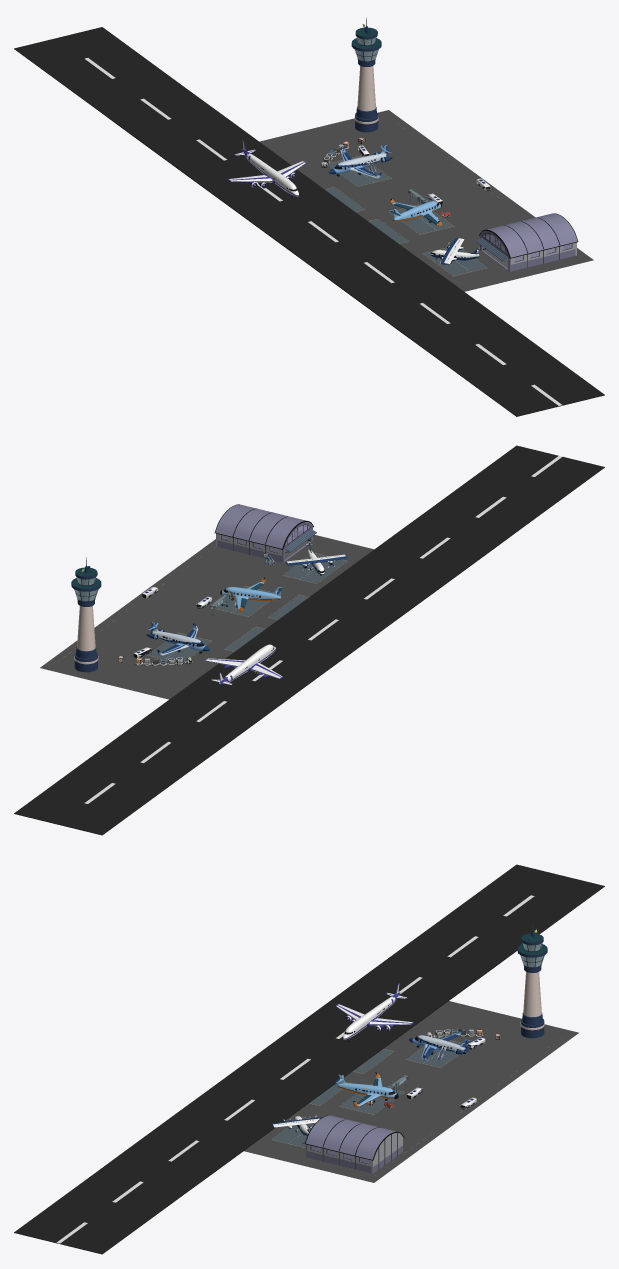
The model's file is exterior-detail.glb.
3 renders of one model, top to bottom at view 1: azimuth 30°, elevation 25°; view 2: azimuth 150°, elevation 25°; view 3: azimuth 330°, elevation 25°, orthographic.
Parts seen in each view (by area): view 1: AS|runway|RUNWAY/LandingTrack1Straight_AIRPORT_0, AS|apron|APRON/apron, AS|infrastructure|SRC-04.Hangar/04.Hangar_AIRPORT_0, AS|infrastructure|SRC-02.ControlTower/02.ControlTower_AIRPOR, AS|aircraft|AC-02/18.2.Airplane_AIRPORT_0, AS|aircraft|AC-03/18.3.Airplane_AIRPORT_0, AS|aircraft|AC-01/18.1.Airplane_AIRPORT_0, AS|stands|STAND-3/stand selection surface, AS|aircraft|AC-04/18.4.Airplane_AIRPORT_0, AS|stands|STAND-1/stand selection surface, AS|stands|STAND-2/stand selection surface; view 2: AS|runway|RUNWAY/LandingTrack1Straight_AIRPORT_0, AS|apron|APRON/apron, AS|infrastructure|SRC-04.Hangar/04.Hangar_AIRPORT_0, AS|infrastructure|SRC-02.ControlTower/02.ControlTower_AIRPOR, AS|aircraft|AC-02/18.2.Airplane_AIRPORT_0, AS|aircraft|AC-03/18.3.Airplane_AIRPORT_0, AS|aircraft|AC-01/18.1.Airplane_AIRPORT_0, AS|stands|STAND-3/stand selection surface, AS|aircraft|AC-04/18.4.Airplane_AIRPORT_0, AS|stands|STAND-2/stand selection surface, AS|stands|STAND-1/stand selection surface; view 3: AS|runway|RUNWAY/LandingTrack1Straight_AIRPORT_0, AS|apron|APRON/apron, AS|infrastructure|SRC-04.Hangar/04.Hangar_AIRPORT_0, AS|infrastructure|SRC-02.ControlTower/02.ControlTower_AIRPOR, AS|aircraft|AC-02/18.2.Airplane_AIRPORT_0, AS|aircraft|AC-01/18.1.Airplane_AIRPORT_0, AS|aircraft|AC-03/18.3.Airplane_AIRPORT_0, AS|stands|STAND-2/stand selection surface, AS|stands|STAND-1/stand selection surface.
Boxes of the visible parts, bbox=[...] form: AS|runway|RUNWAY/LandingTrack1Straight_AIRPORT_0: bbox=[14, 27, 604, 416]; AS|apron|APRON/apron: bbox=[259, 110, 593, 291]; AS|infrastructure|SRC-04.Hangar/04.Hangar_AIRPORT_0: bbox=[476, 213, 578, 271]; AS|infrastructure|SRC-02.ControlTower/02.ControlTower_AIRPOR: bbox=[351, 17, 381, 132]; AS|aircraft|AC-02/18.2.Airplane_AIRPORT_0: bbox=[228, 140, 305, 198]; AS|aircraft|AC-03/18.3.Airplane_AIRPORT_0: bbox=[329, 145, 392, 178]; AS|aircraft|AC-01/18.1.Airplane_AIRPORT_0: bbox=[388, 198, 442, 226]; AS|stands|STAND-3/stand selection surface: bbox=[423, 248, 487, 275]; AS|aircraft|AC-04/18.4.Airplane_AIRPORT_0: bbox=[430, 238, 479, 264]; AS|stands|STAND-1/stand selection surface: bbox=[389, 204, 453, 234]; AS|stands|STAND-2/stand selection surface: bbox=[328, 156, 390, 186]; AS|runway|RUNWAY/LandingTrack1Straight_AIRPORT_0: bbox=[14, 445, 604, 835]; AS|apron|APRON/apron: bbox=[40, 535, 373, 699]; AS|infrastructure|SRC-04.Hangar/04.Hangar_AIRPORT_0: bbox=[214, 504, 316, 562]; AS|infrastructure|SRC-02.ControlTower/02.ControlTower_AIRPOR: bbox=[71, 557, 101, 672]; AS|aircraft|AC-02/18.2.Airplane_AIRPORT_0: bbox=[205, 644, 282, 684]; AS|aircraft|AC-03/18.3.Airplane_AIRPORT_0: bbox=[146, 622, 209, 655]; AS|aircraft|AC-01/18.1.Airplane_AIRPORT_0: bbox=[220, 577, 282, 611]; AS|stands|STAND-3/stand selection surface: bbox=[283, 553, 347, 583]; AS|aircraft|AC-04/18.4.Airplane_AIRPORT_0: bbox=[285, 543, 347, 575]; AS|stands|STAND-2/stand selection surface: bbox=[148, 632, 212, 662]; AS|stands|STAND-1/stand selection surface: bbox=[215, 586, 273, 616]; AS|runway|RUNWAY/LandingTrack1Straight_AIRPORT_0: bbox=[14, 864, 604, 1254]; AS|apron|APRON/apron: bbox=[244, 1001, 578, 1182]; AS|infrastructure|SRC-04.Hangar/04.Hangar_AIRPORT_0: bbox=[302, 1115, 404, 1173]; AS|infrastructure|SRC-02.ControlTower/02.ControlTower_AIRPOR: bbox=[517, 923, 547, 1038]; AS|aircraft|AC-02/18.2.Airplane_AIRPORT_0: bbox=[336, 983, 413, 1041]; AS|aircraft|AC-01/18.1.Airplane_AIRPORT_0: bbox=[336, 1072, 398, 1107]; AS|aircraft|AC-03/18.3.Airplane_AIRPORT_0: bbox=[409, 1029, 472, 1060]; AS|stands|STAND-2/stand selection surface: bbox=[406, 1037, 467, 1067]; AS|stands|STAND-1/stand selection surface: bbox=[340, 1084, 404, 1114].
Bounding box in the file's own units: 203 × 101 × 808.
6 materials, 2 textured.
